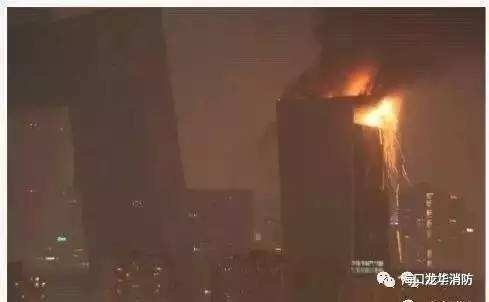fire: (359, 96, 398, 126)
